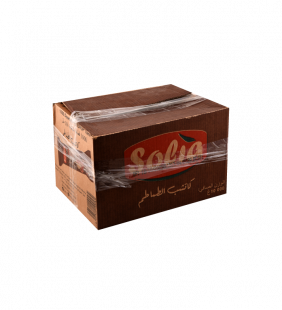SOLIA: (48, 80, 234, 234)
